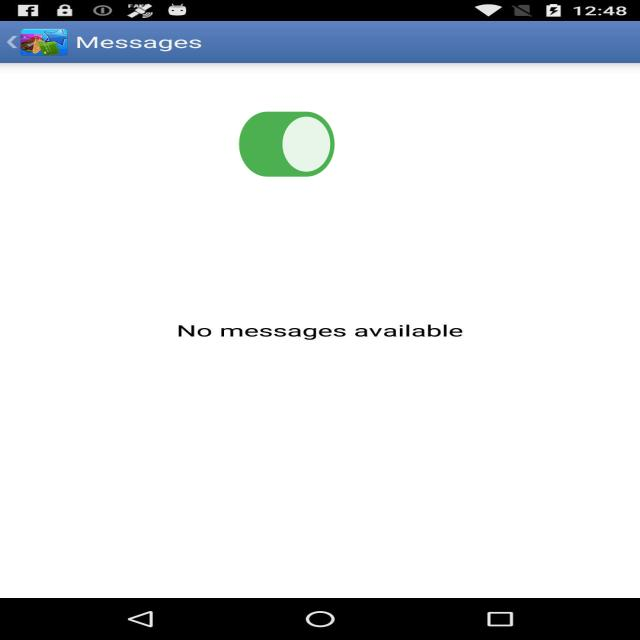social proof: (235, 86, 339, 206)
